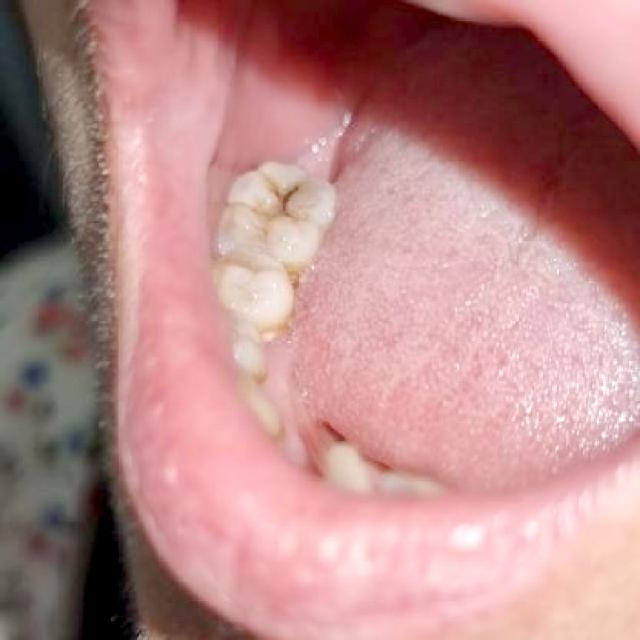Plaque: (236, 171, 311, 225)
